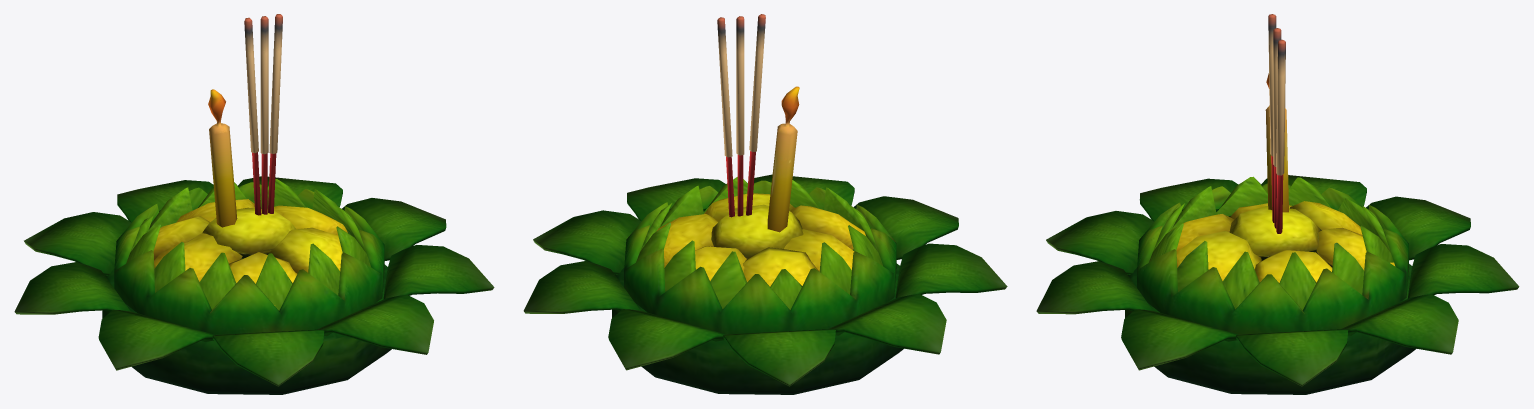
File: asset.gltf
3 renders of one model, left to right at view 1: azimuth 30°, elevation 25°; view 2: azimuth 150°, elevation 25°; view 3: azimuth 270°, elevation 25°, orthographic.
Visible parts, largest first — view 1: Krathong_0; view 2: Krathong_0; view 3: Krathong_0.
Part boxes in pixels (x1,y1,x2,y2): Krathong_0: [14, 14, 494, 394]; Krathong_0: [523, 14, 1007, 394]; Krathong_0: [1036, 14, 1519, 394].
Size of the model in its own units: 0.5741 by 0.4171 by 0.5708.
Materials: 1 (1 with a texture image).
